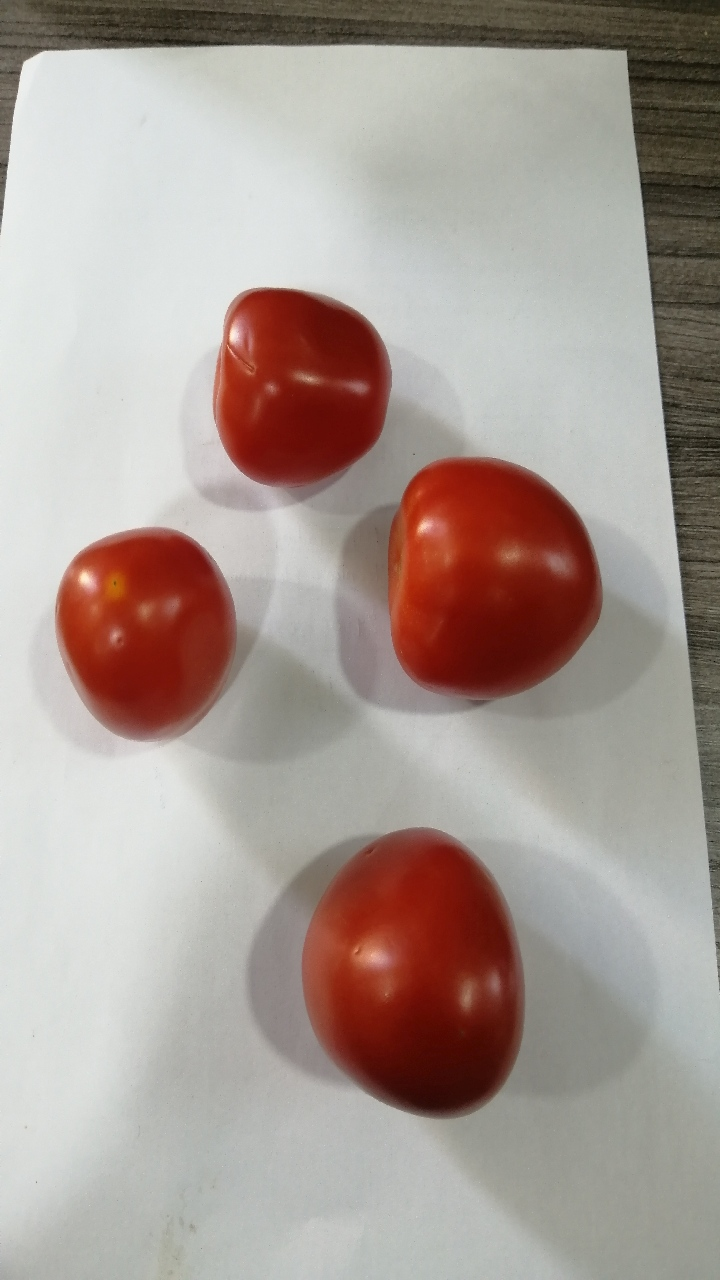tomateRojo: (278, 814, 537, 1140), (380, 448, 628, 719), (206, 266, 404, 519), (32, 514, 232, 748)
